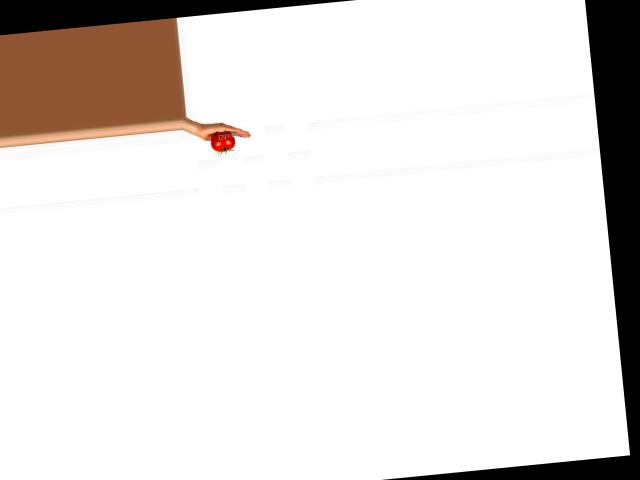tomato: (210, 130, 236, 152)
